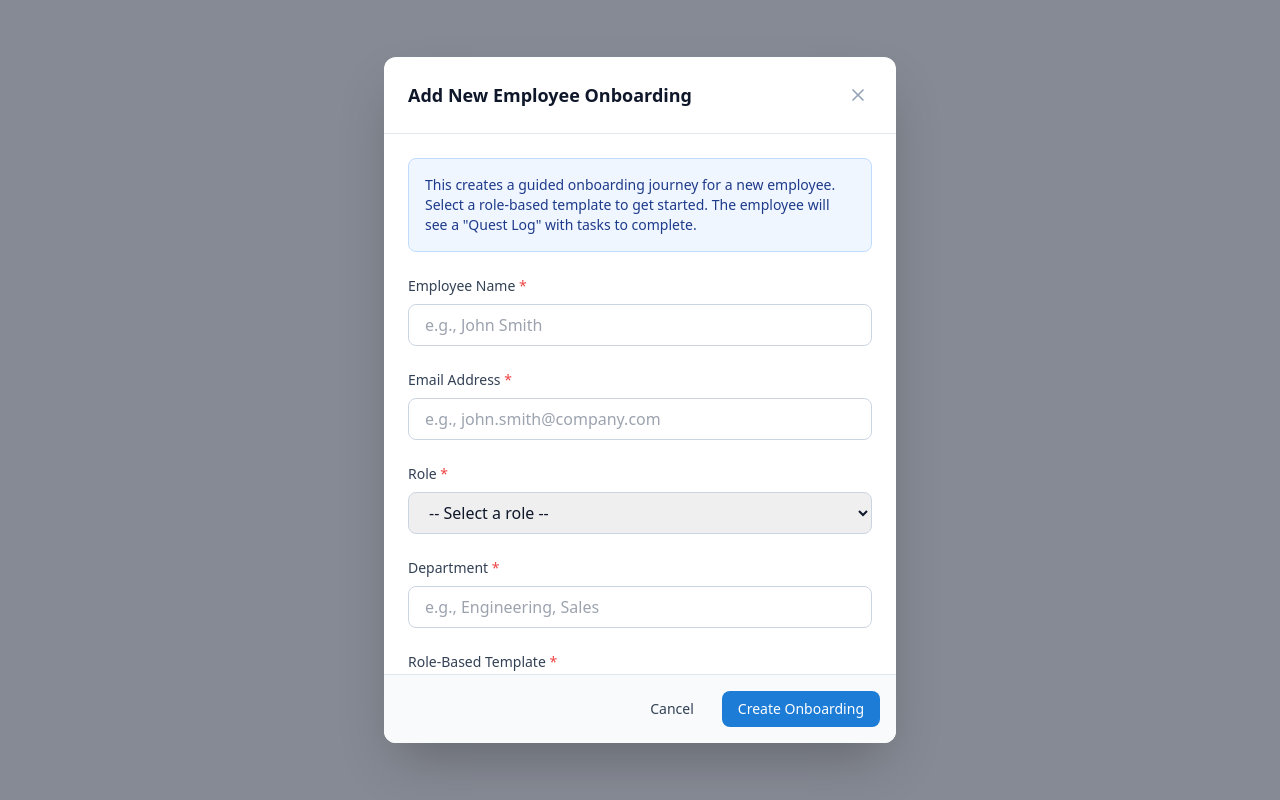
CreateOnboardingModal Component › should show validation error for missing department
In the field labelled "Employee Name *": (640, 325) left=408, top=304, right=872, bottom=346, type "John Doe"
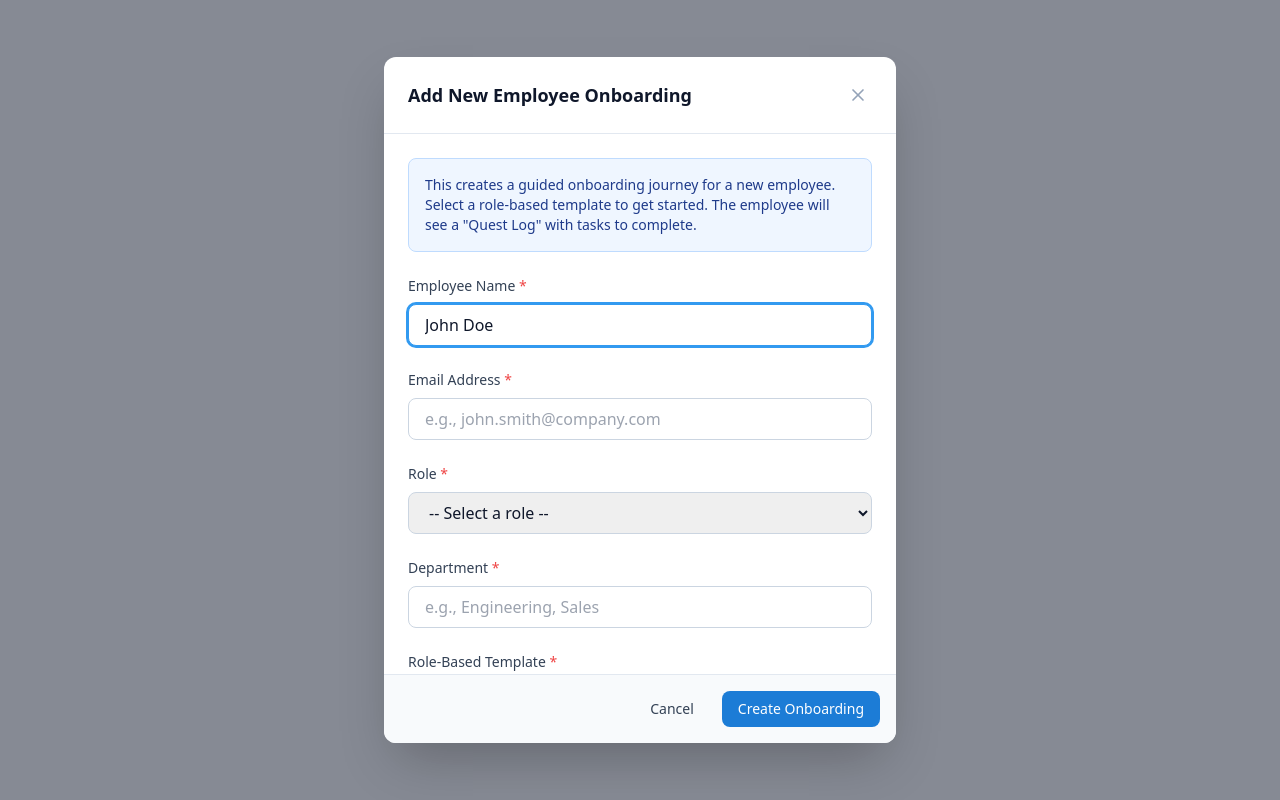
In the field labelled "Email Address *": (640, 419) left=408, top=398, right=872, bottom=440, type "john@example.com"
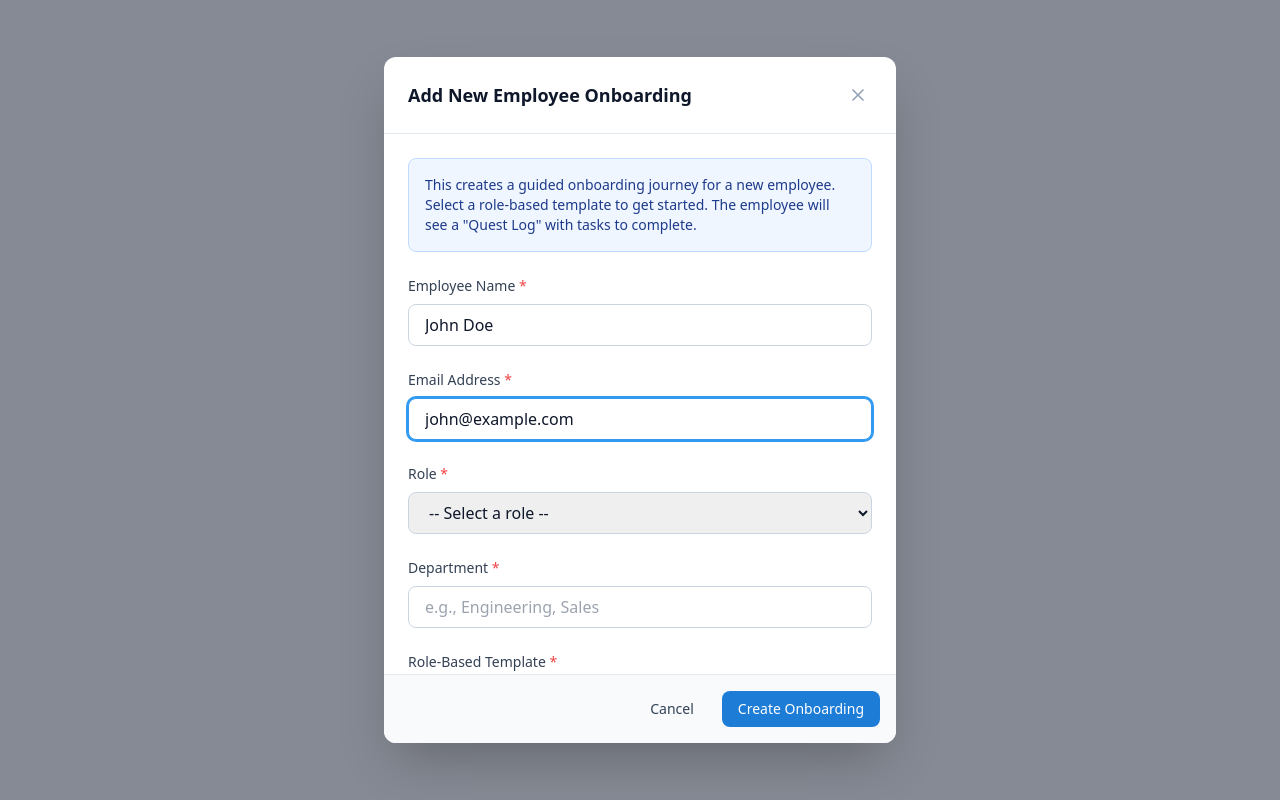
Select "Engineering" in the dropdown named "Employee role": (640, 513) left=408, top=492, right=872, bottom=534
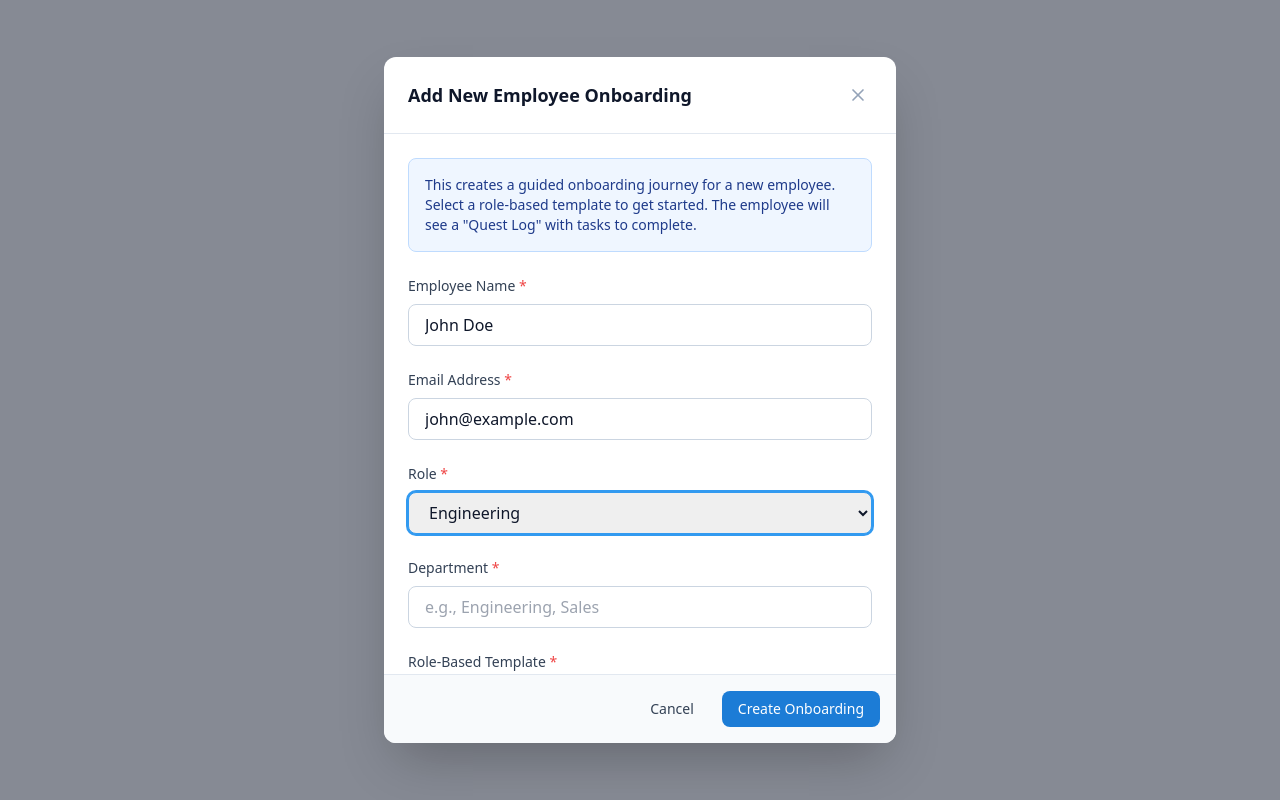
Click the button "Create Onboarding": (801, 709) left=722, top=691, right=880, bottom=727
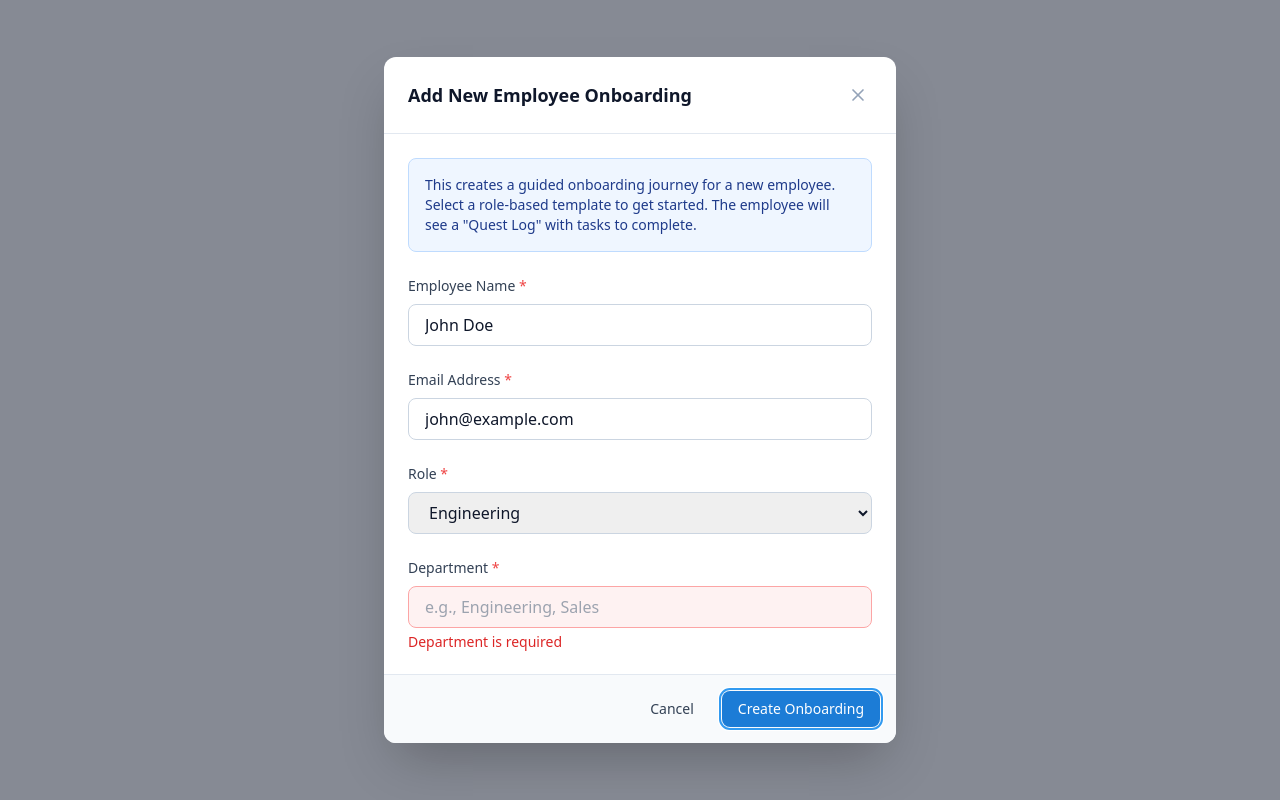
Expected: the text "Department is required" is shown, left=408, top=632, right=562, bottom=651
